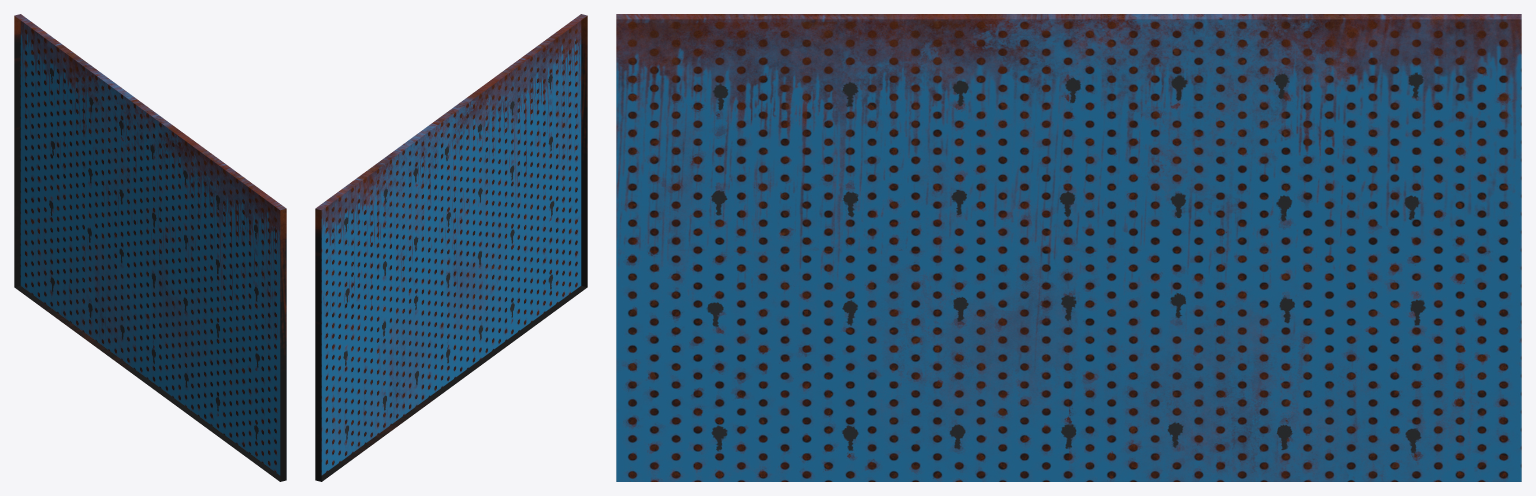
Rendered from delikli_pano.gltf.
3 renders of one model, left to right at view 1: azimuth 30°, elevation 25°; view 2: azimuth 150°, elevation 25°; view 3: azimuth 270°, elevation 25°, orthographic. The views are drawn at different scales.
Visible parts, largest first — view 1: delikli_pano; view 2: delikli_pano; view 3: delikli_pano.
Boxes of the visible parts, x1,y1,x2,y2 form: delikli_pano: [14, 14, 286, 481]; delikli_pano: [315, 14, 587, 481]; delikli_pano: [616, 14, 1521, 481].
Size of what is drawn, in the model's own units: 0.0229 by 0.9018 by 1.6.
Materials: 1 (1 with a texture image).
